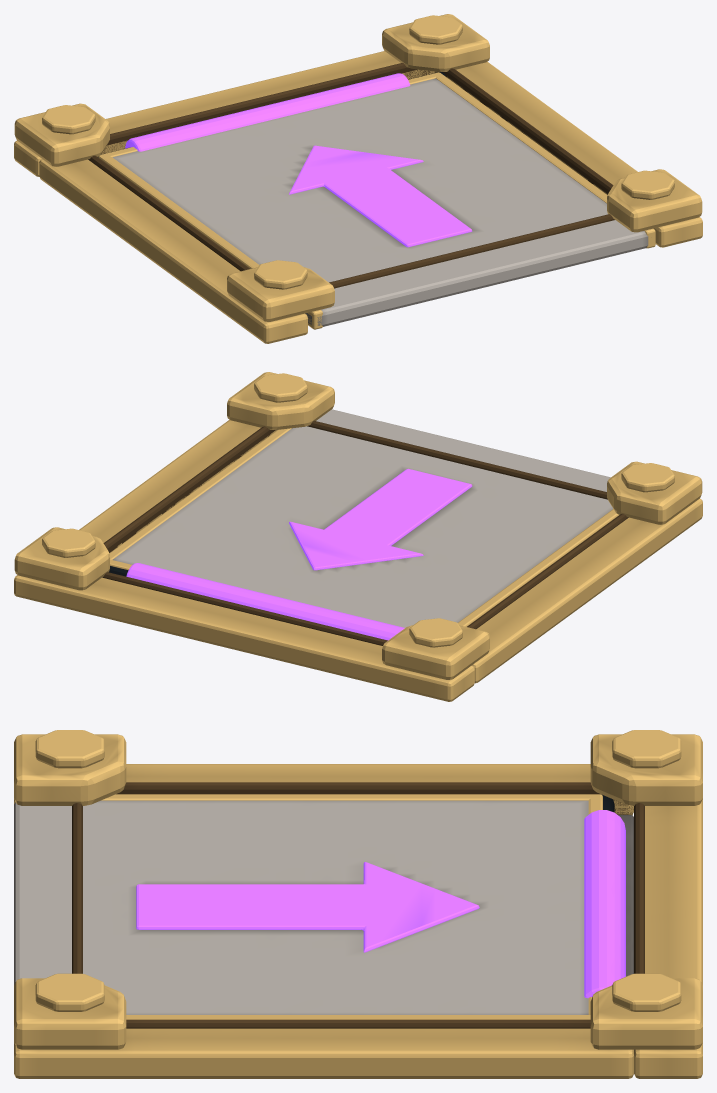
The model's file is board_spring_2.glb.
3 renders of one model, top to bottom at view 1: azimuth 30°, elevation 25°; view 2: azimuth 150°, elevation 25°; view 3: azimuth 270°, elevation 25°, orthographic. The views are drawn at different scales.
Parts seen in each view (by area): view 1: Plate, Gold3, Arrow, Gold2, Gold0, Glow, Bolt3, Bolt0, GoldLine0, Bolt2, Bolt1, GoldLine2 (+8 smaller); view 2: Plate, Gold0, Gold3, Arrow, Gold2, Glow, Bolt1, Bolt2, Bolt0, Bolt3, GoldLine1, GoldLine2 (+8 smaller); view 3: Plate, Gold2, Arrow, Gold0, Gold3, Glow, GoldLine3, Bolt0, Bolt2, Bolt1, Bolt3, GoldLine2 (+9 smaller).
Part boxes in pixels (x1,y1,x2,y2): Plate: (113, 78, 648, 326); Gold3: (39, 159, 307, 343); Arrow: (289, 145, 472, 247); Gold2: (434, 61, 702, 247); Gold0: (14, 51, 434, 176); Glow: (125, 73, 410, 151); Bolt3: (227, 267, 334, 321); Bolt0: (382, 14, 489, 71); GoldLine0: (101, 63, 432, 153); Bolt2: (607, 169, 702, 232); Bolt1: (14, 103, 109, 166); GoldLine2: (435, 68, 613, 193); Plate: (113, 409, 613, 627); Gold0: (14, 575, 474, 701); Gold3: (472, 498, 702, 683); Arrow: (289, 468, 472, 570); Gold2: (79, 419, 276, 546); Glow: (126, 563, 404, 640); Bolt1: (382, 625, 489, 679); Bolt2: (227, 372, 334, 429); Bolt0: (14, 527, 109, 590); Bolt3: (607, 461, 702, 524); GoldLine1: (307, 421, 607, 499); GoldLine2: (103, 426, 275, 552); Plate: (14, 800, 588, 1014); Gold2: (14, 1028, 633, 1078); Arrow: (136, 862, 479, 952); Gold0: (634, 799, 702, 1078); Gold3: (126, 764, 633, 815); Glow: (584, 810, 625, 998); GoldLine3: (116, 782, 633, 813); Bolt0: (590, 978, 702, 1049); Bolt2: (14, 978, 126, 1049); Bolt1: (590, 734, 702, 805); Bolt3: (14, 734, 126, 805); GoldLine2: (126, 1019, 590, 1028).
Size of the model in its own units: 1 by 0.1193 by 1.
